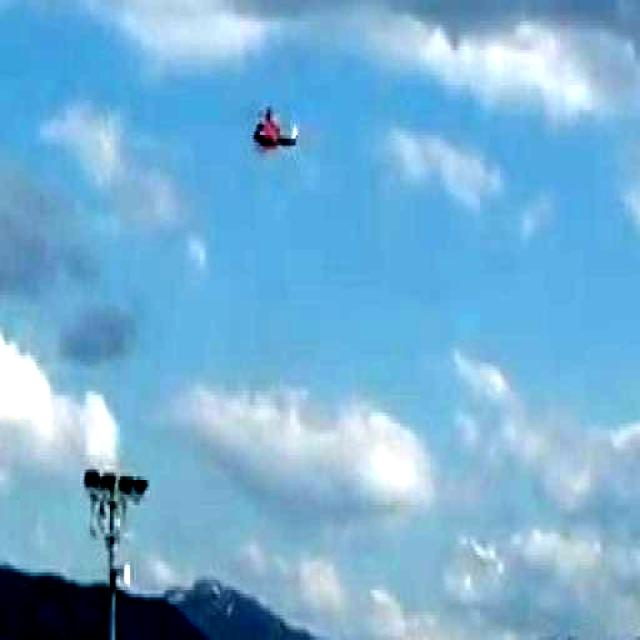drone: (248, 92, 311, 172)
